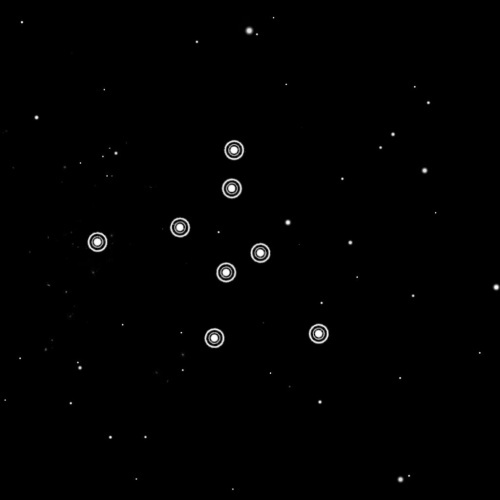hercules: (82, 132, 336, 353)
